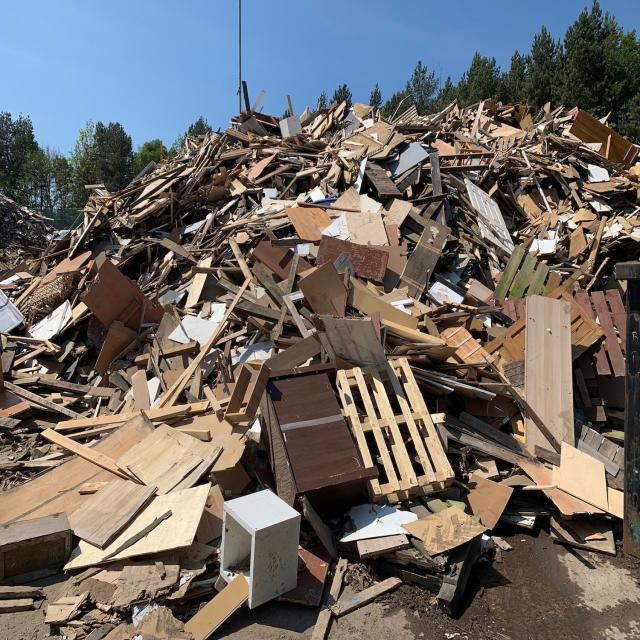green waste: (7, 111, 637, 637)
